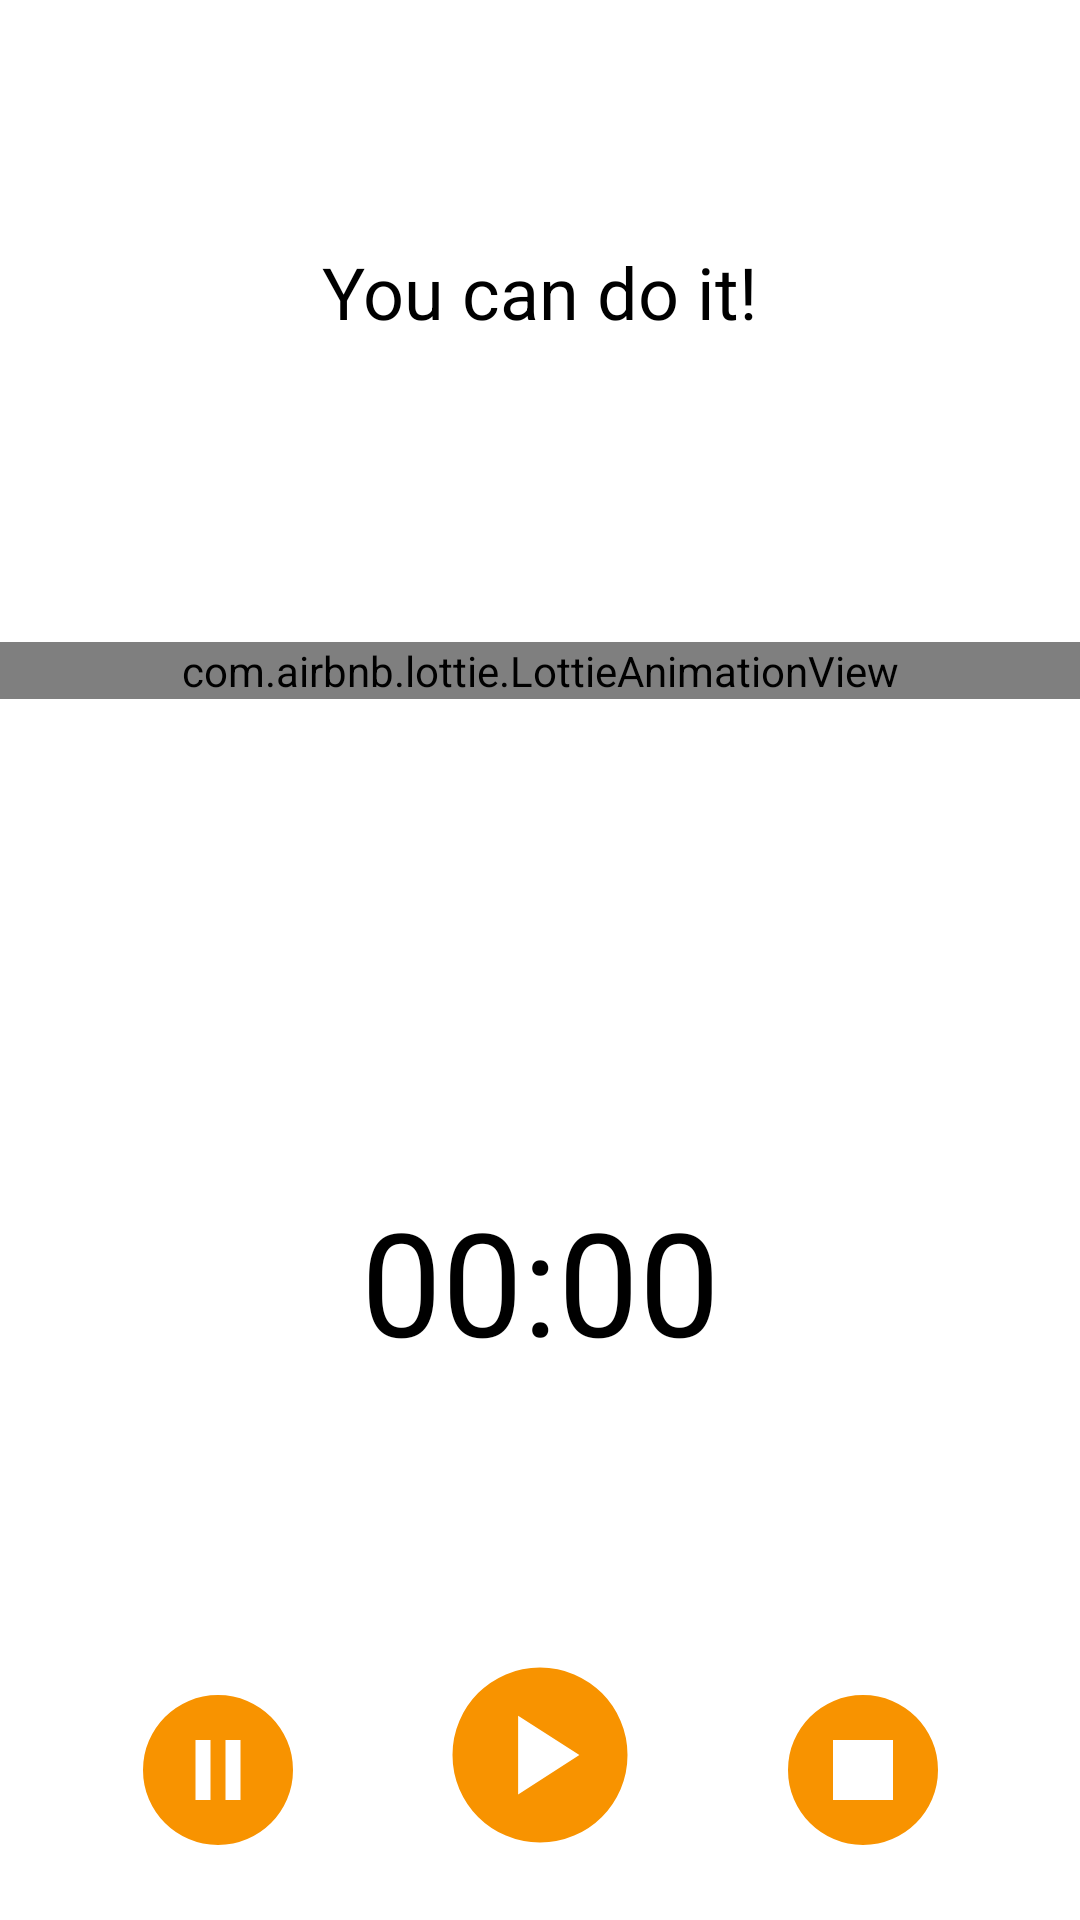

Named icons in this screenshot (1080 × 1920) and their centers, [x,y]:
pause: [218,1770]
play: [540,1755]
stop: [863,1770]
